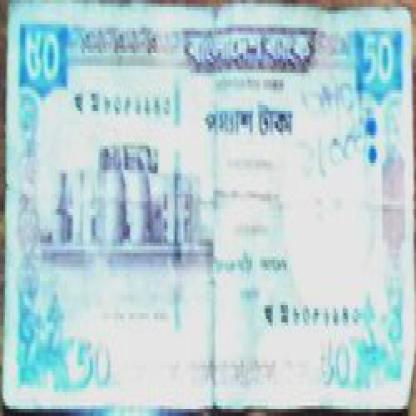Fifty taka: (305, 329, 356, 399), (20, 27, 62, 80)
